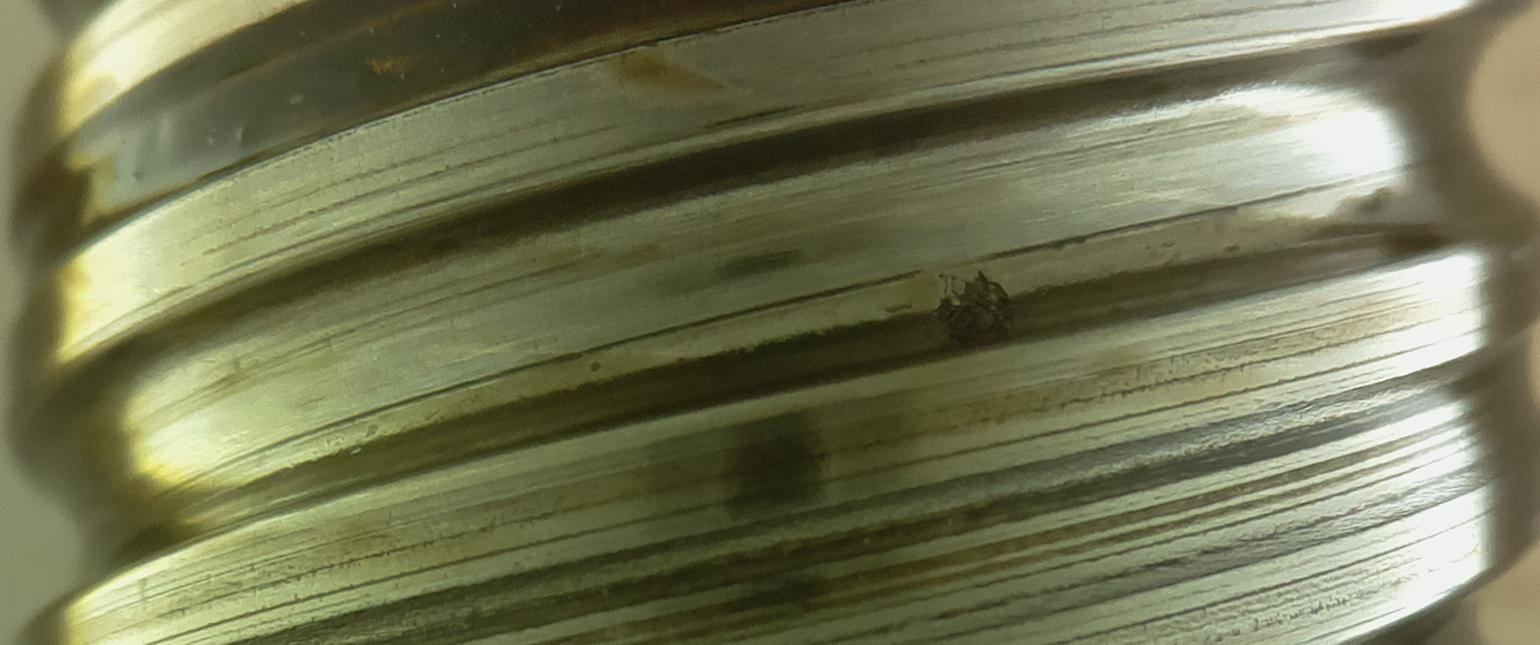pitting: (929, 271, 1029, 352)
